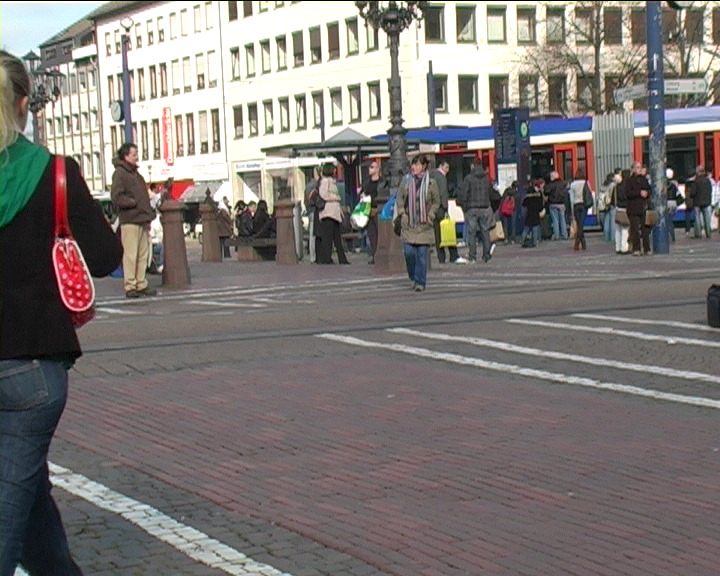deflection: (398, 149, 442, 208)
